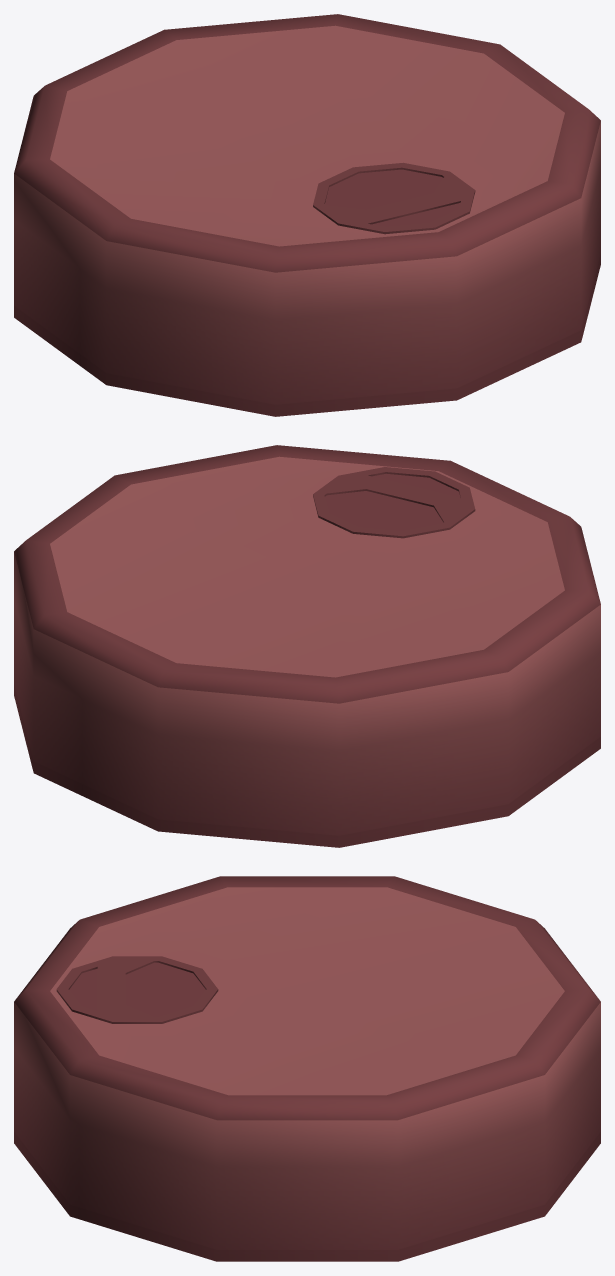
The model's file is can_food_small_red.fbx.
3 renders of one model, top to bottom at view 1: azimuth 30°, elevation 25°; view 2: azimuth 150°, elevation 25°; view 3: azimuth 270°, elevation 25°, orthographic.
Visible parts, largest first — view 1: can_food_small_red; view 2: can_food_small_red; view 3: can_food_small_red.
Boxes of the visible parts, x1,y1,x2,y2 form: can_food_small_red: [14, 14, 600, 416]; can_food_small_red: [14, 445, 600, 847]; can_food_small_red: [14, 876, 600, 1261].
Bounding box in the file's own units: 104 × 31.53 × 109.
